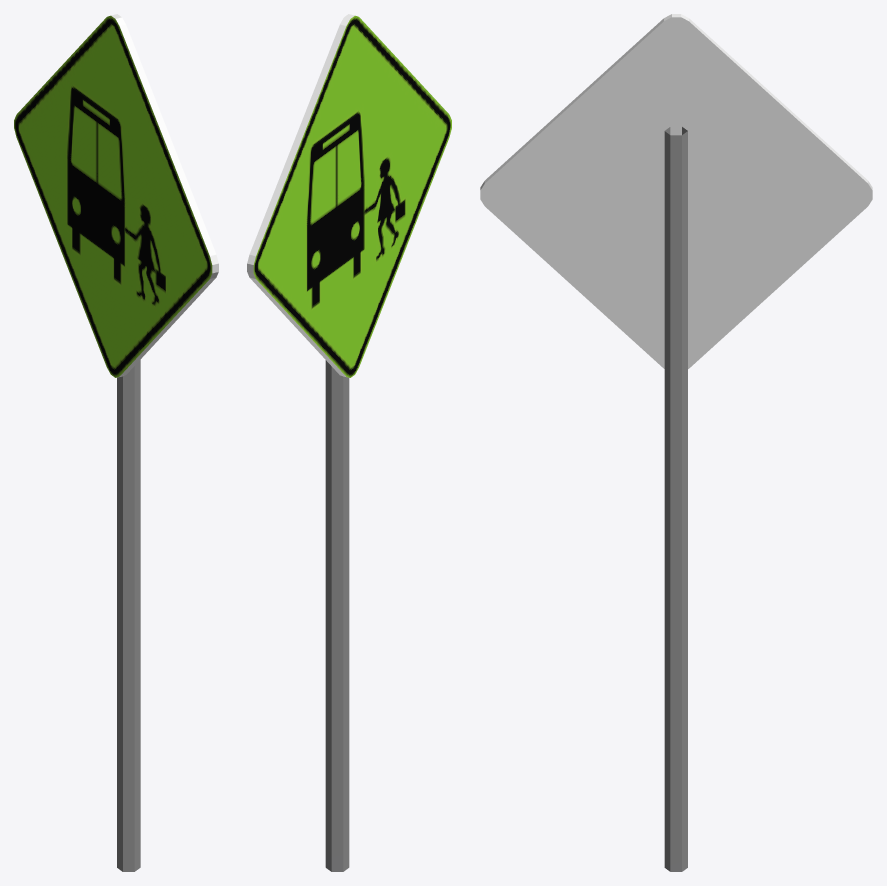
File: RoadSign4_2.fbx
3 views of the same model, side by side, from view 1: azimuth 30°, elevation 25°; view 2: azimuth 150°, elevation 25°; view 3: azimuth 270°, elevation 25° (orthographic).
Visible parts, largest first — view 1: Circle.030; view 2: Circle.030; view 3: Circle.030.
Boxes of the visible parts, bbox=[...] form: Circle.030: bbox=[14, 14, 218, 871]; Circle.030: bbox=[247, 14, 451, 871]; Circle.030: bbox=[480, 14, 872, 871].
Bounding box in the file's own units: 11.87 × 399 × 168.
